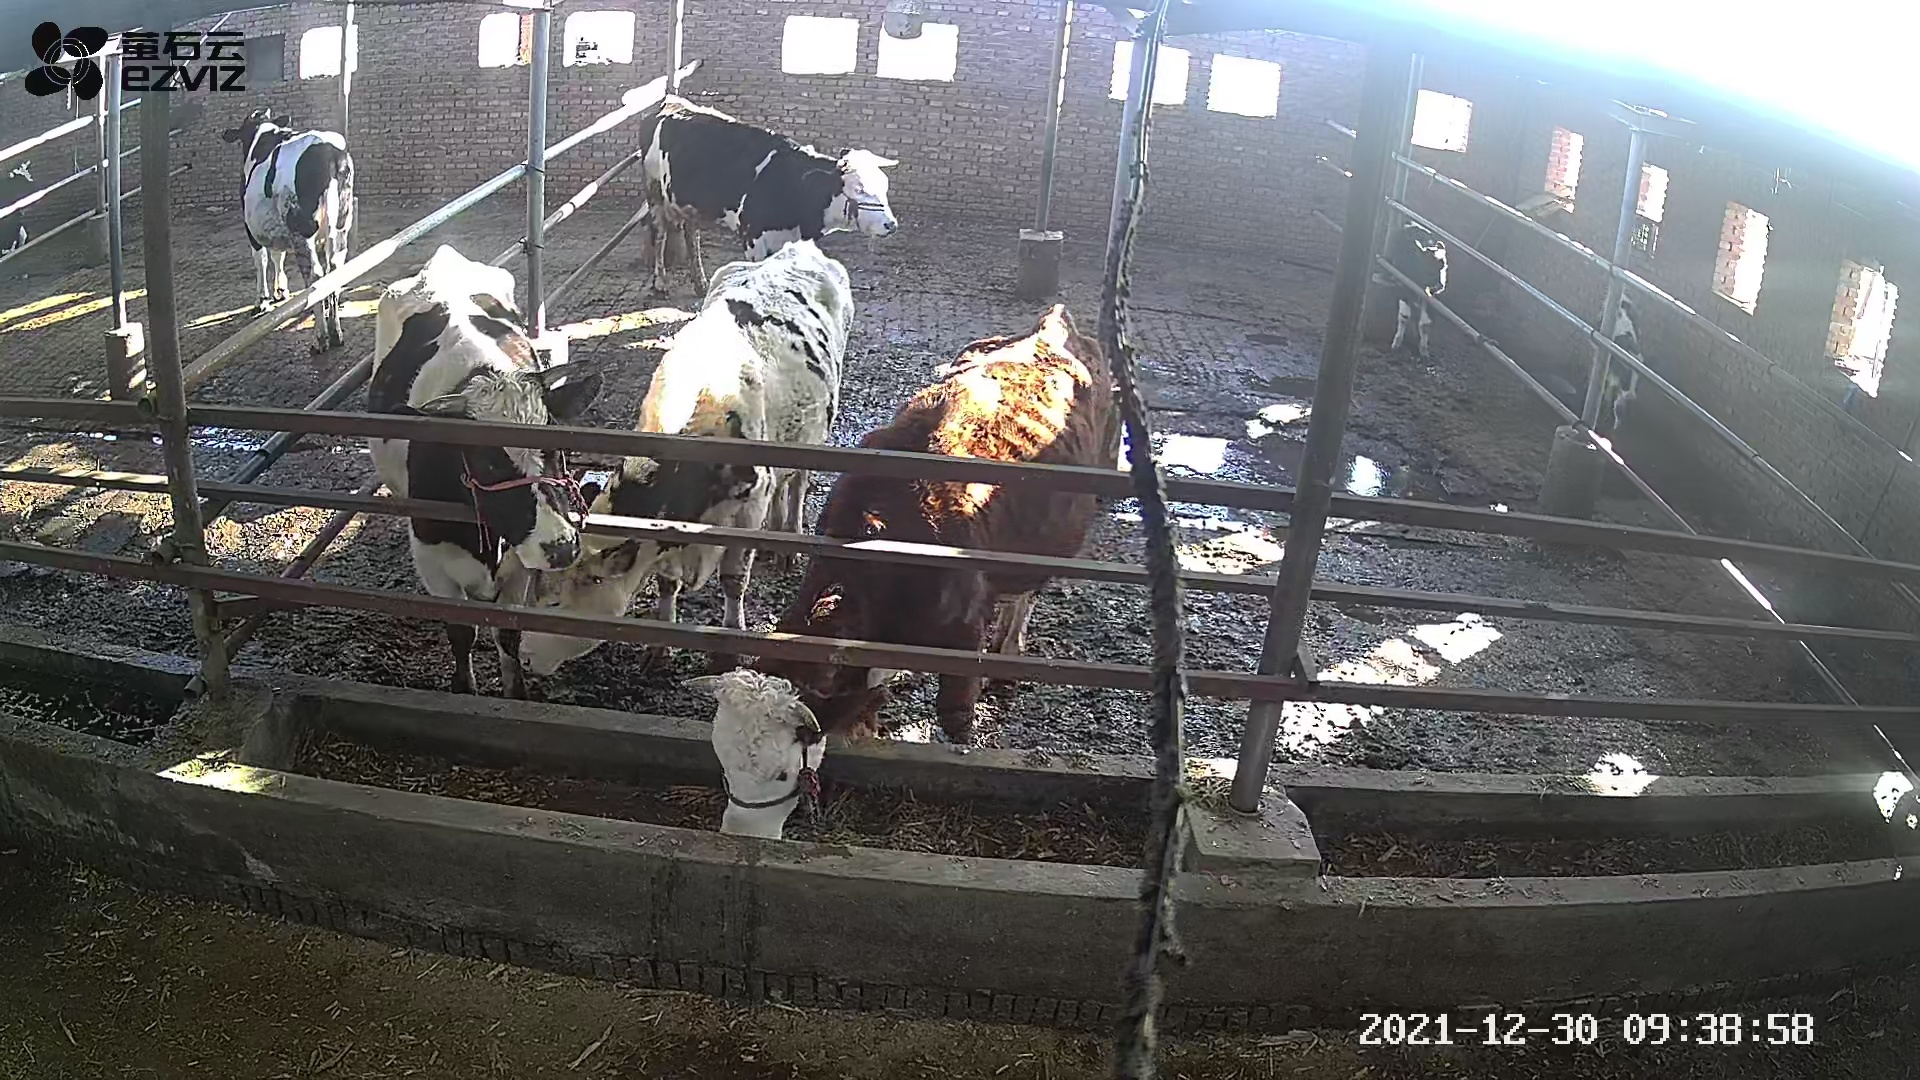cow: (682, 303, 1122, 841), (518, 237, 853, 675), (367, 243, 583, 702), (637, 91, 902, 303)
